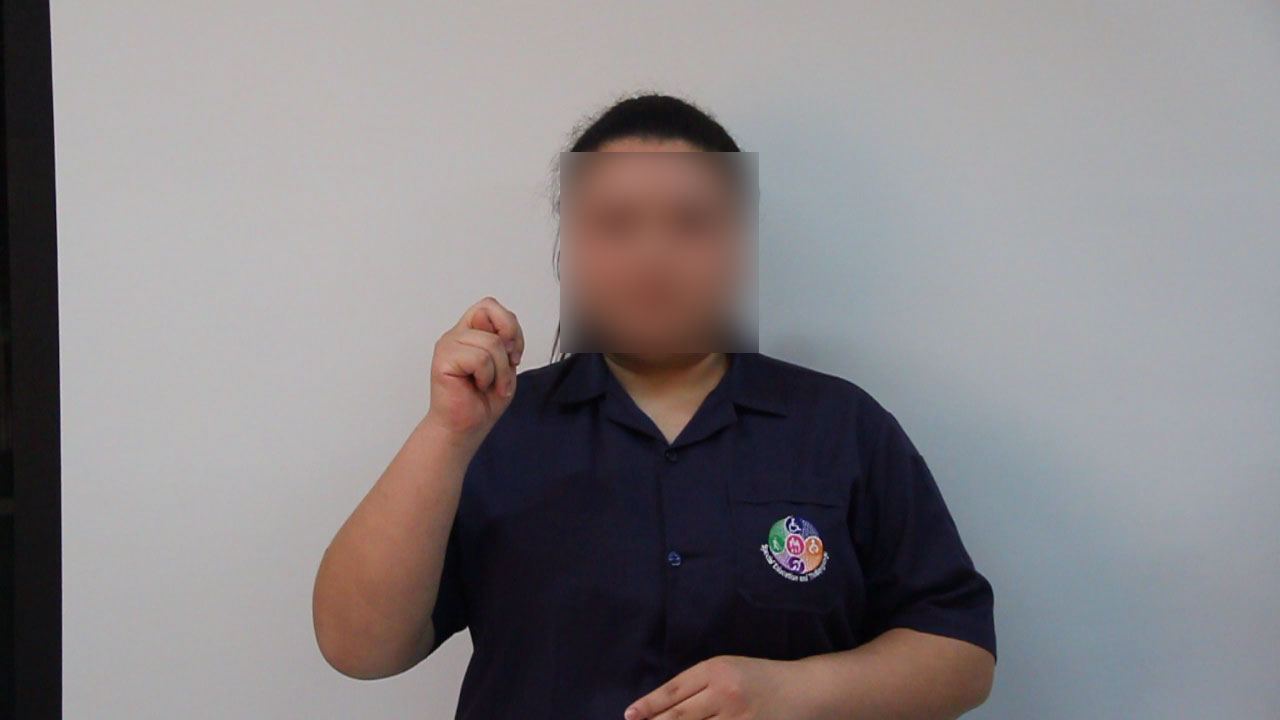nor: (408, 290, 542, 425)
